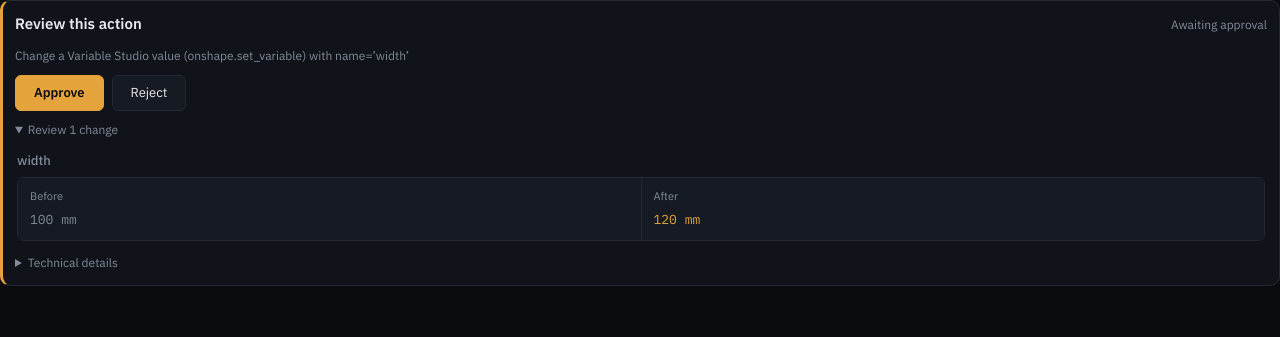
Test: a decision the server REFUSED › keeps the card and says the approval cannot be retried
The image size is (1280, 337).
Click the button "Approve".
click(59, 93)  # box [15,75,104,111]
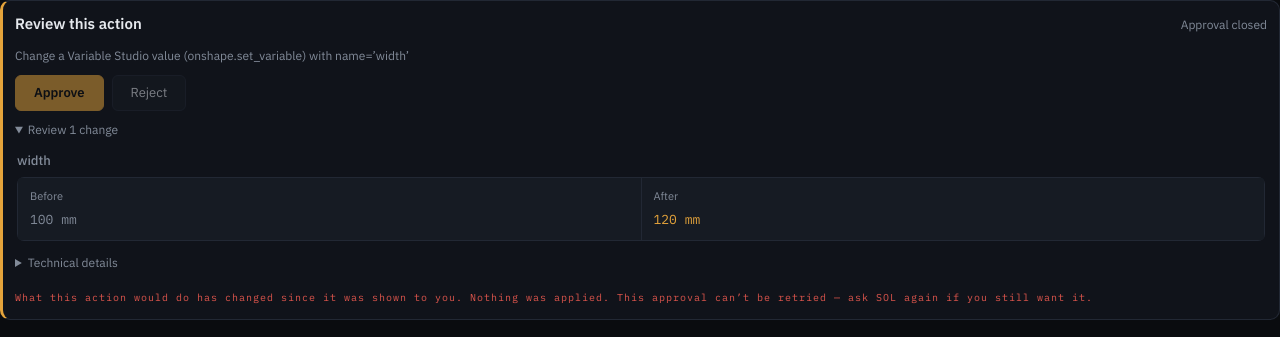
expect the text "Nothing was applied" is shown: met, box [15,291,610,304]
expect the text "can’t be retried" is shown: met, box [617,291,1093,304]
